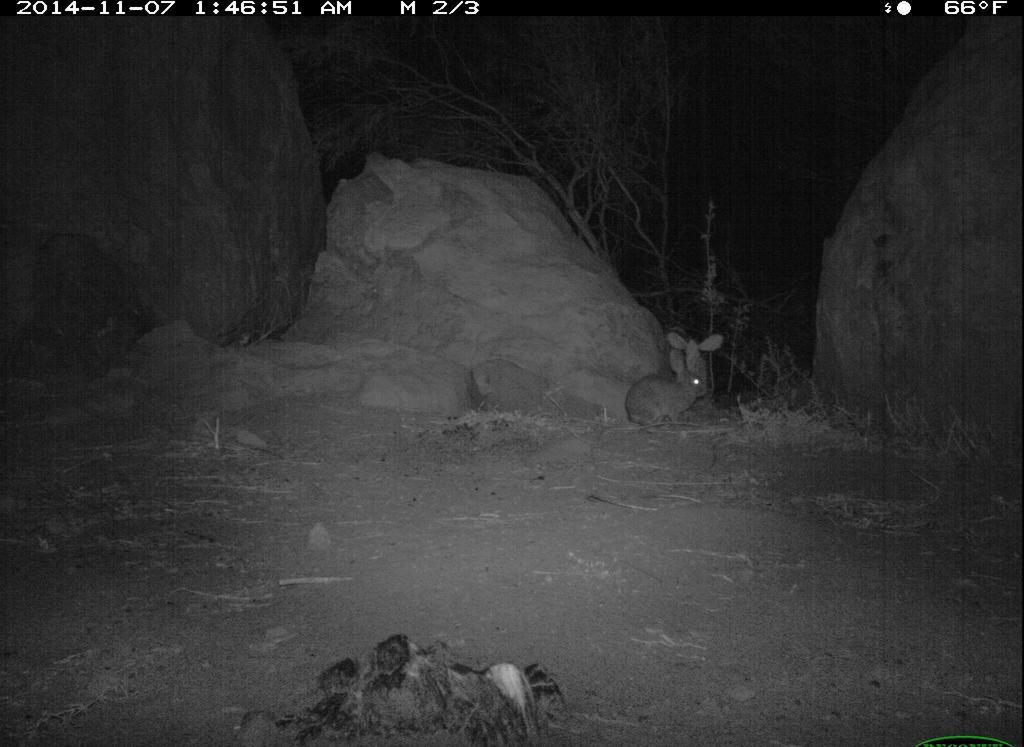rabbit: (616, 356, 711, 428), (664, 331, 729, 401)
